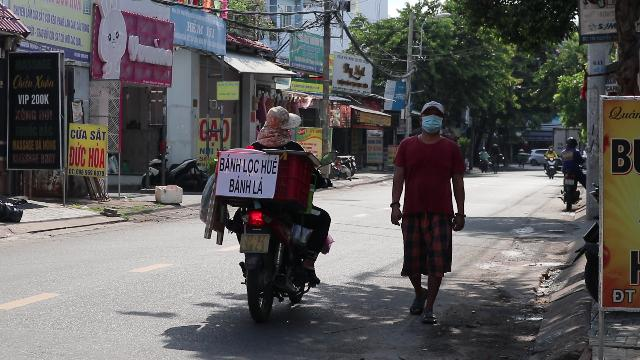licenseplate: (241, 234, 269, 252)
motorcyclist: (199, 106, 335, 325)
nohelmet: (260, 106, 302, 144)
